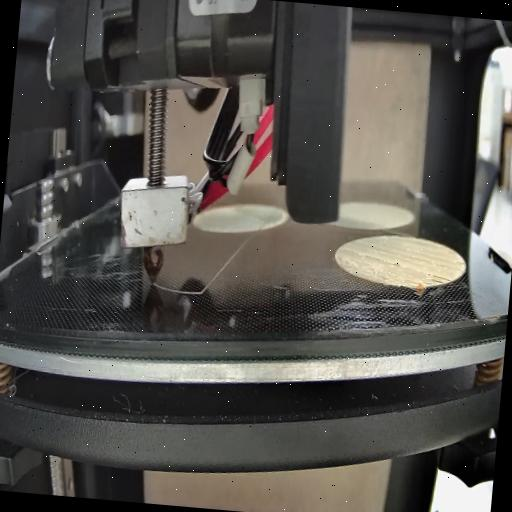under_extrusion: (361, 252, 402, 272), (420, 270, 448, 290), (403, 278, 419, 292)
